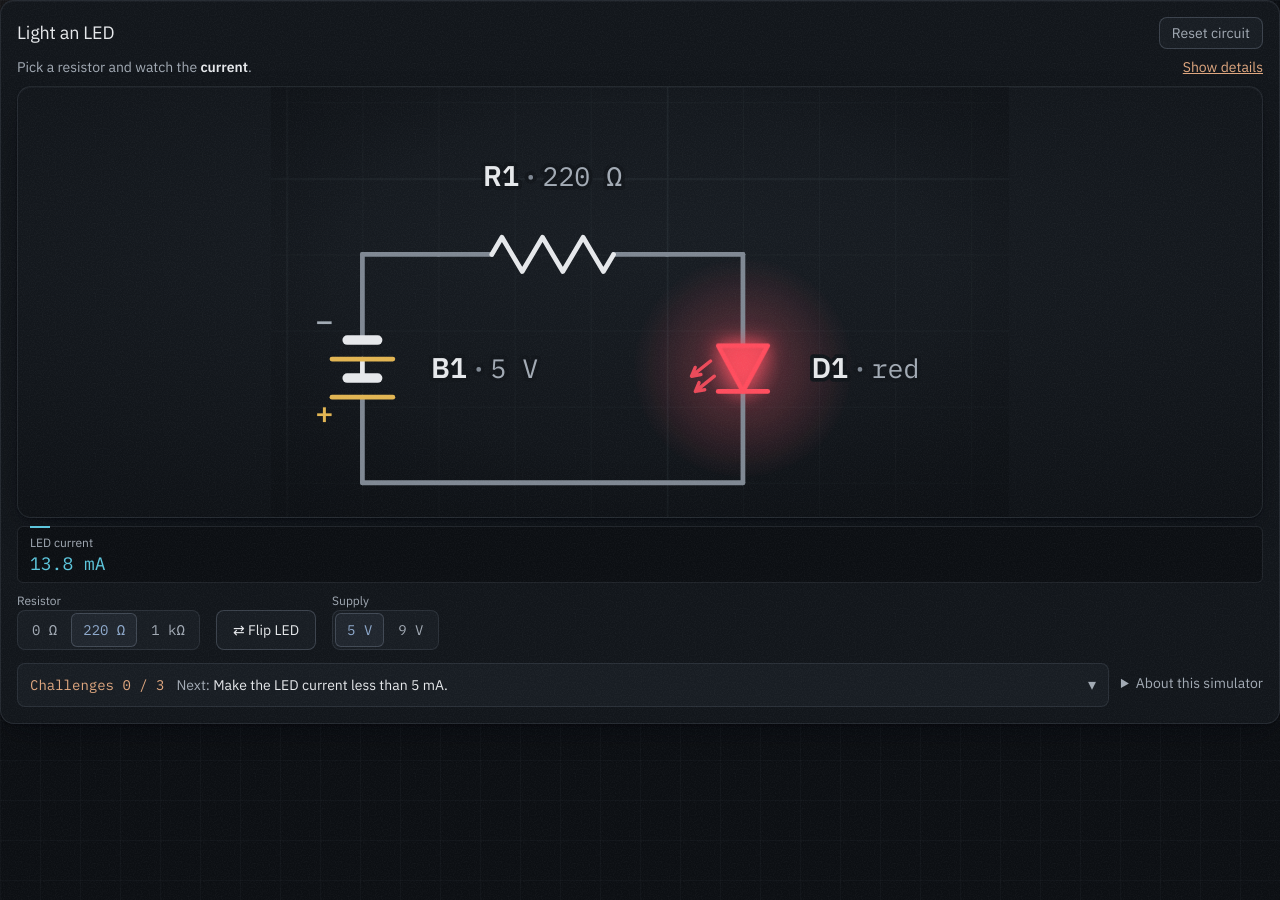
it: Lab › unlocks challenges in order: a later one cannot complete early, nor on the state that finished the one before
Check: the text "Challenges 0 / 3" is shown, box [30,674,164,697]
Click the button "⇄ Flip LED" at point(266, 630), box [216,610,316,650]
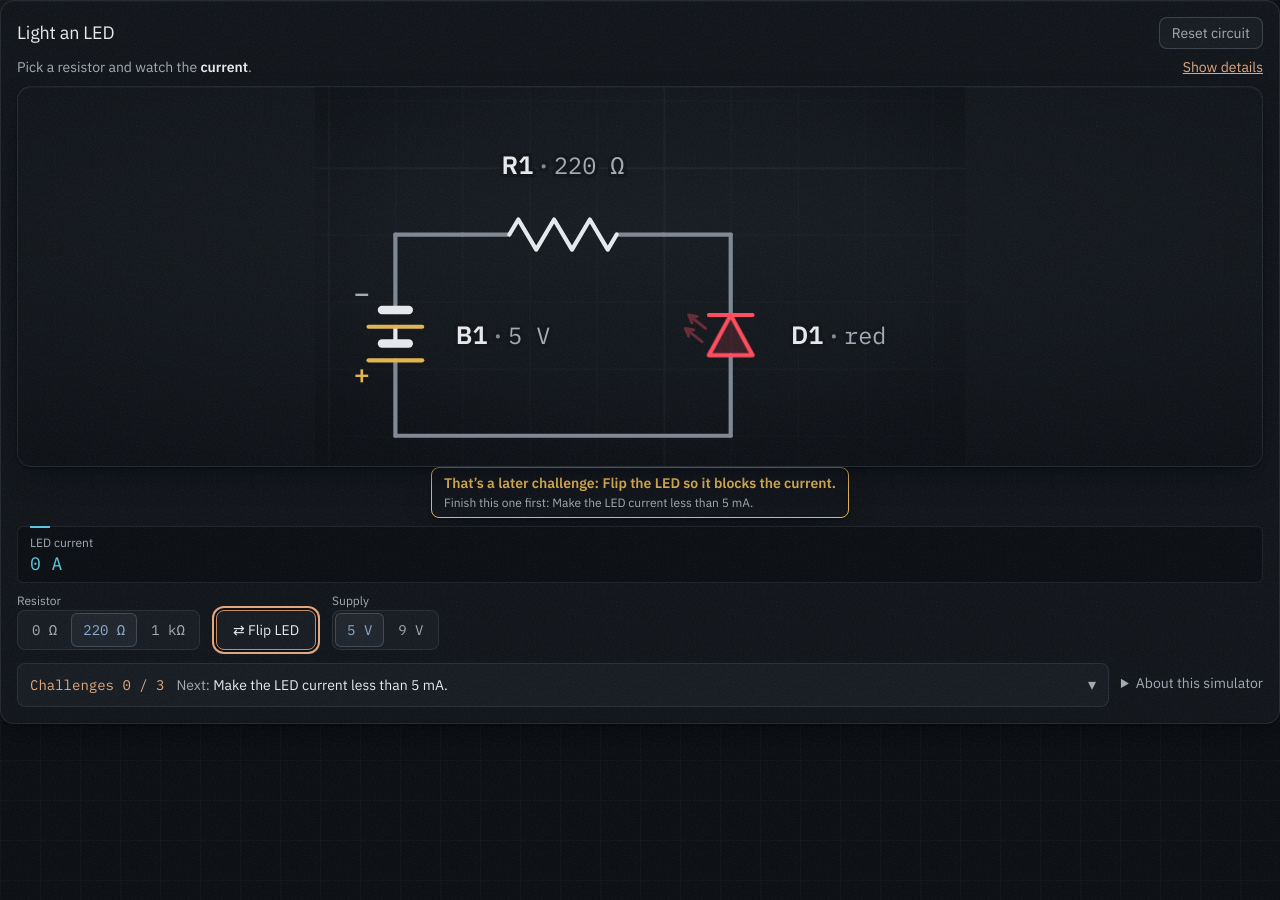
Click the button "⇄ Flip LED" at point(266, 630), box [216,610,316,650]
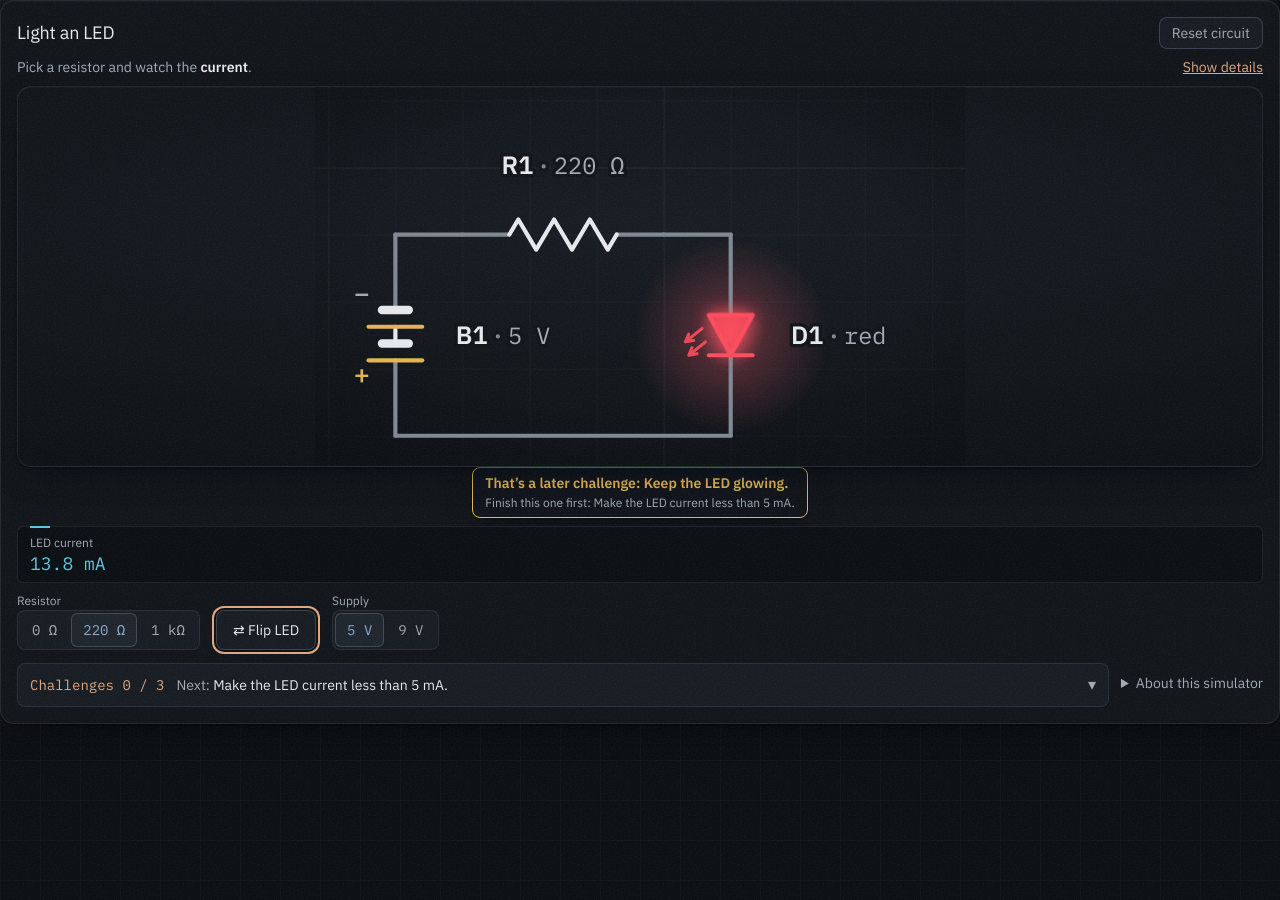
Check: the text "Challenges 0 / 3" is shown, box [30,674,164,697]
Click the radio button labelled "1 kΩ" at point(168, 630), box [151,621,185,639]
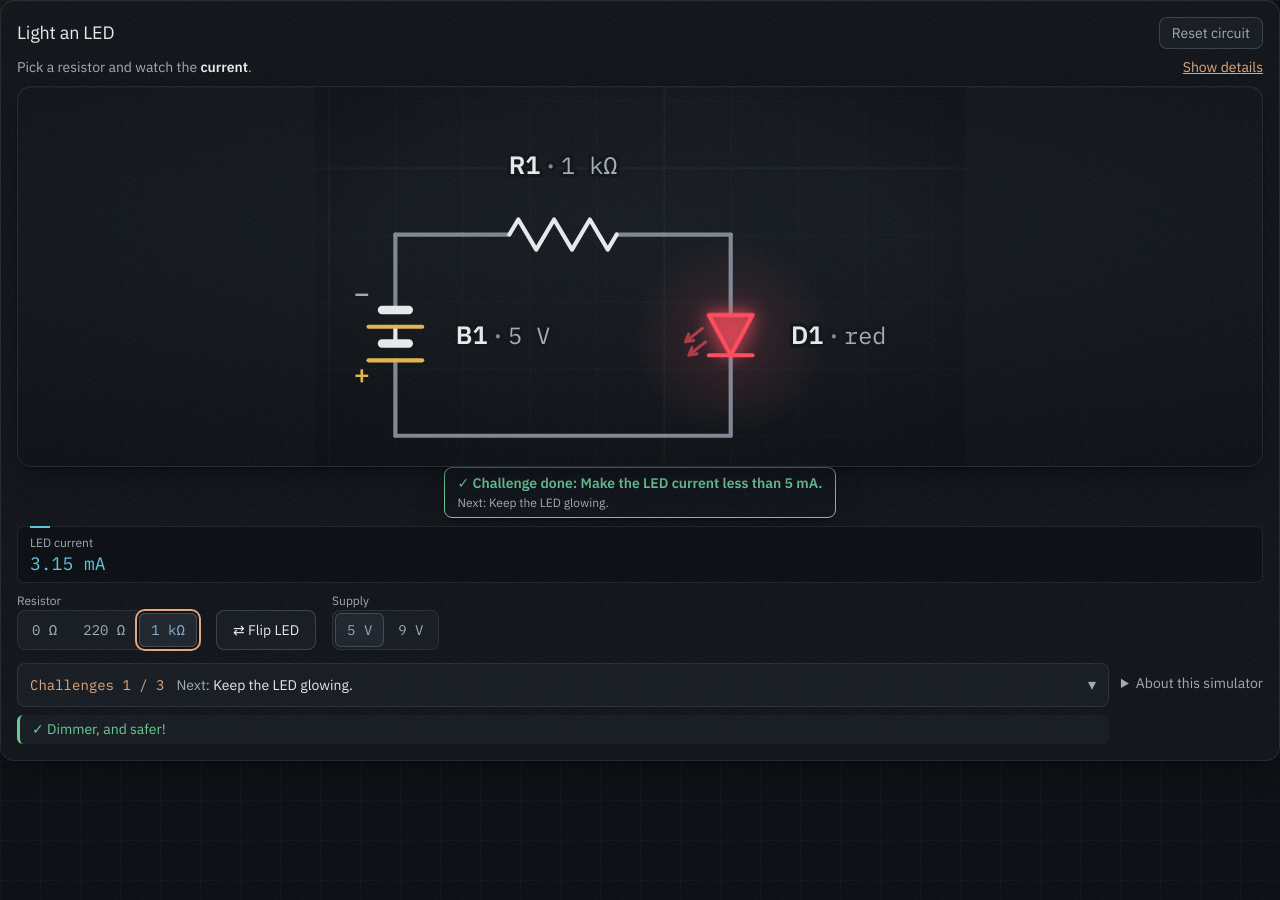
Check: the text "Challenges 1 / 3" is shown, box [30,674,164,697]
Check: the button with class "lab-tray-flash" shows "Dimmer, and safer!", box [17,715,1109,744]
Click the radio button labelled "220 Ω" at point(104, 630), box [83,621,125,639]
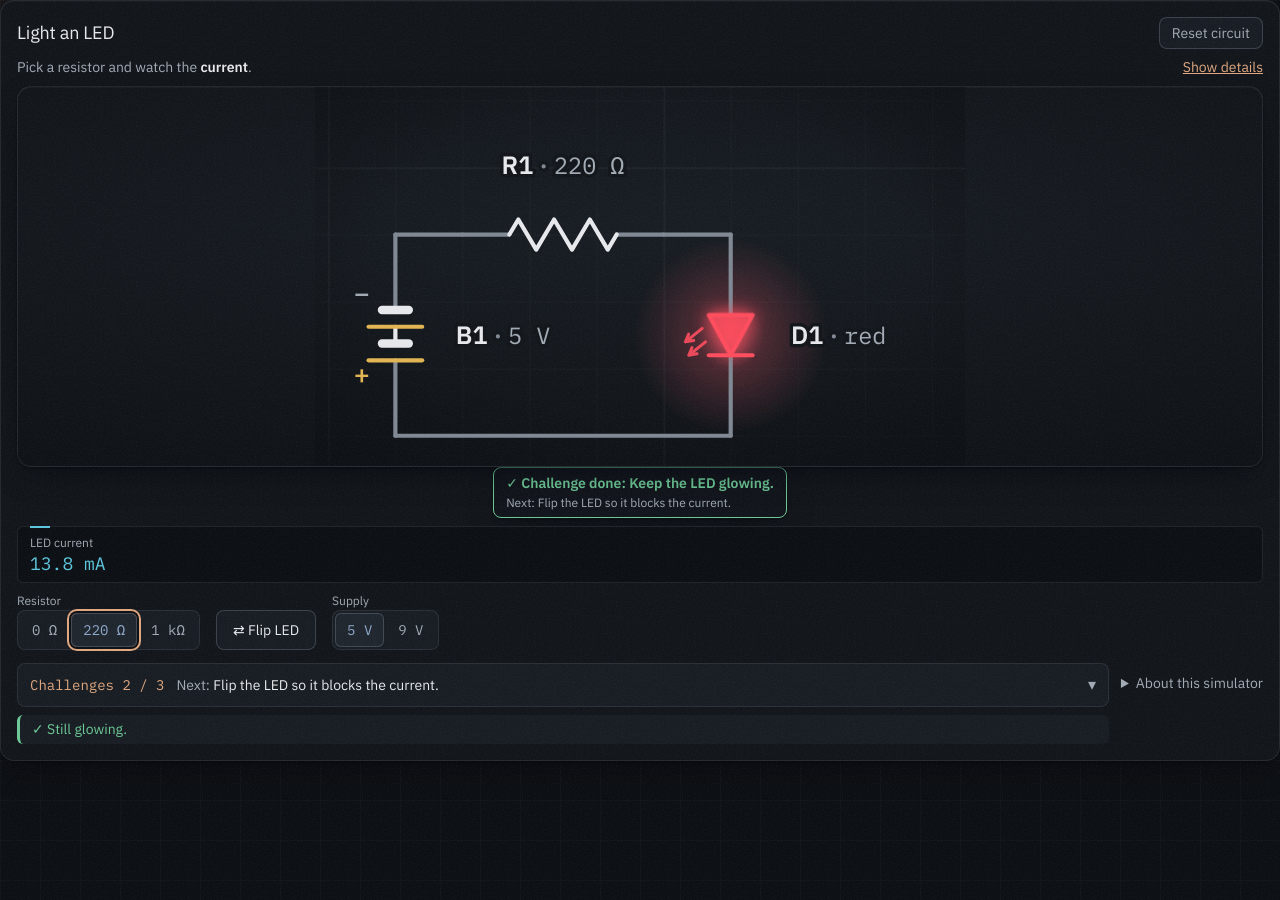
Check: the text "Challenges 2 / 3" is shown, box [30,674,164,697]
Click the button "⇄ Flip LED" at point(266, 630), box [216,610,316,650]
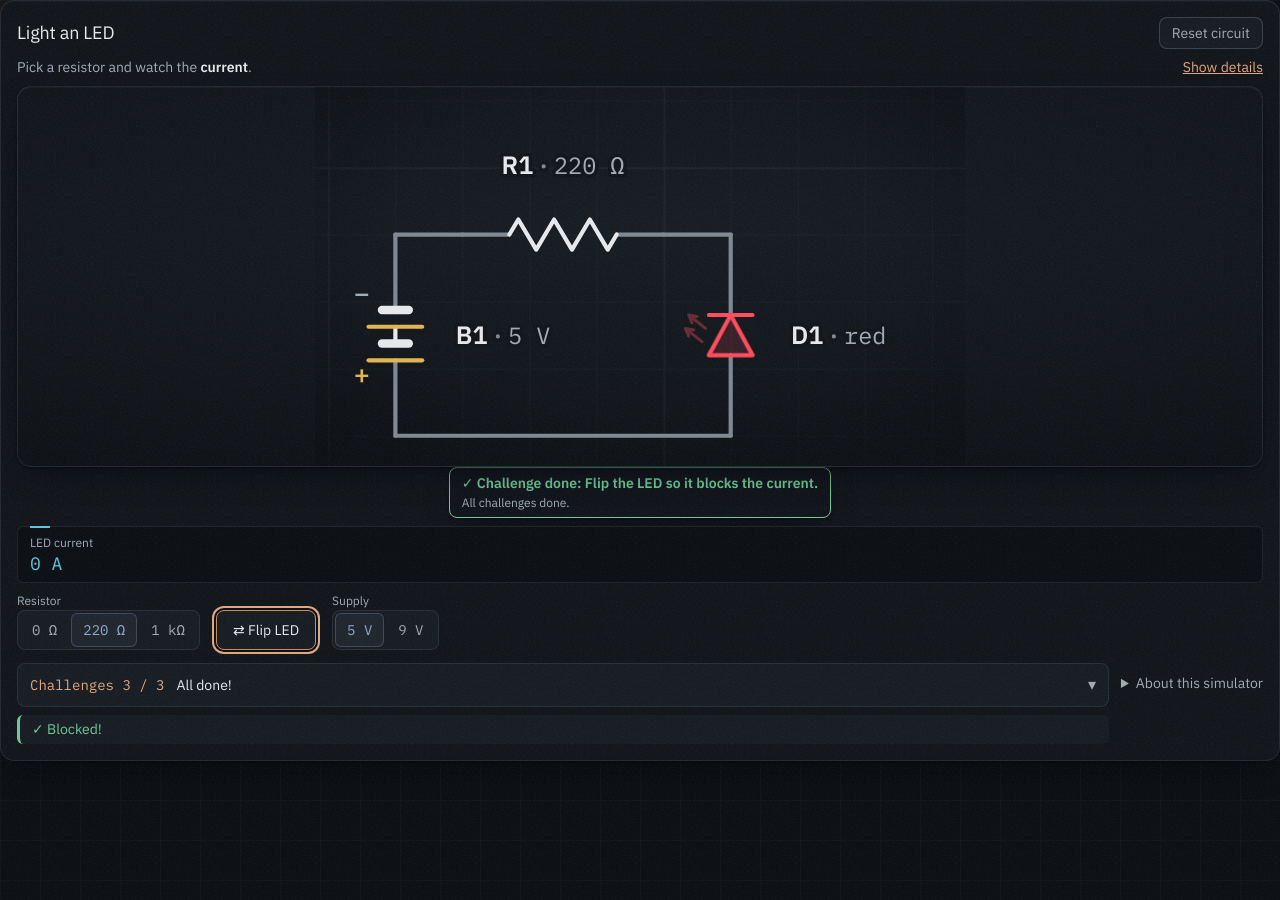
Check: the text "Challenges 3 / 3" is shown, box [30,674,164,697]
Check: the text "All done!" is shown, box [176,675,232,696]
